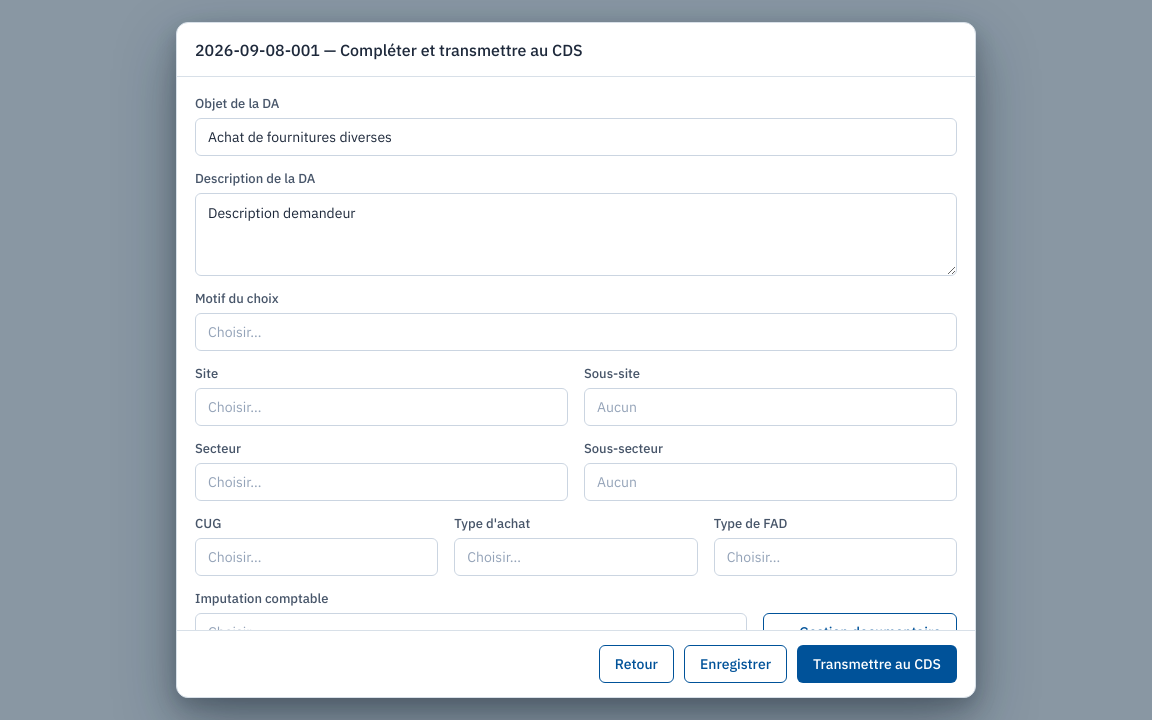
it: TraiterFadRcModal — DA_VALIDEE_RC/FAD_A_COMPLETER_CDS (complétion + transmission au CDS) › Enregistrer sauvegarde la saisie en cours via enregistrerFad, sans fermer la modale ni exiger les champs obligatoires
Click the button with aria-label "CUG".
click(317, 557)  # box x1=195 y1=538 x2=438 y2=576
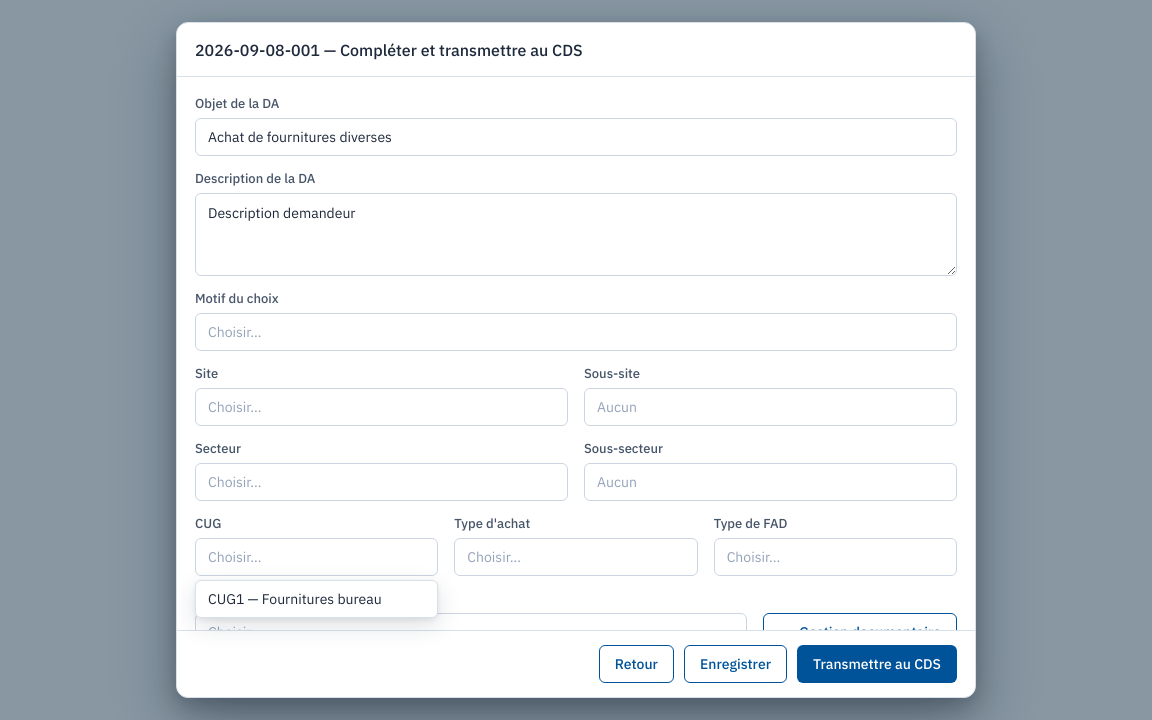
Click the text "CUG1 — Fournitures bureau".
click(295, 599)  # box x1=208 y1=590 x2=382 y2=608
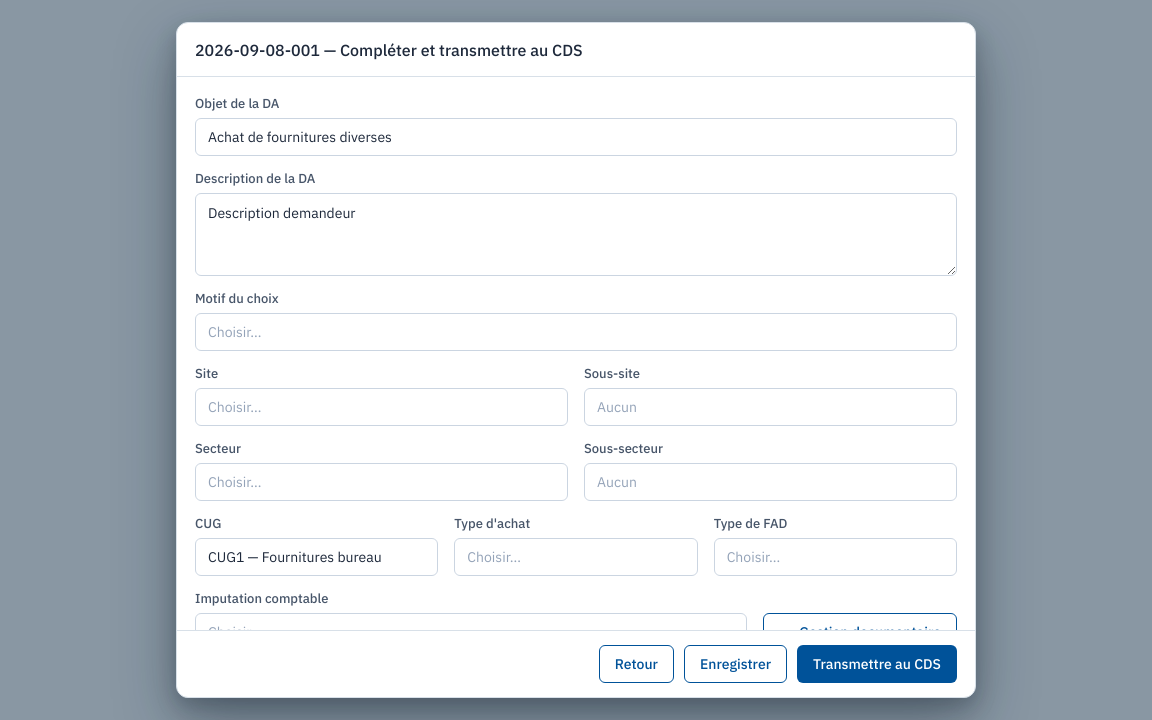
Click the button "Enregistrer".
click(736, 664)  # box x1=684 y1=645 x2=787 y2=683
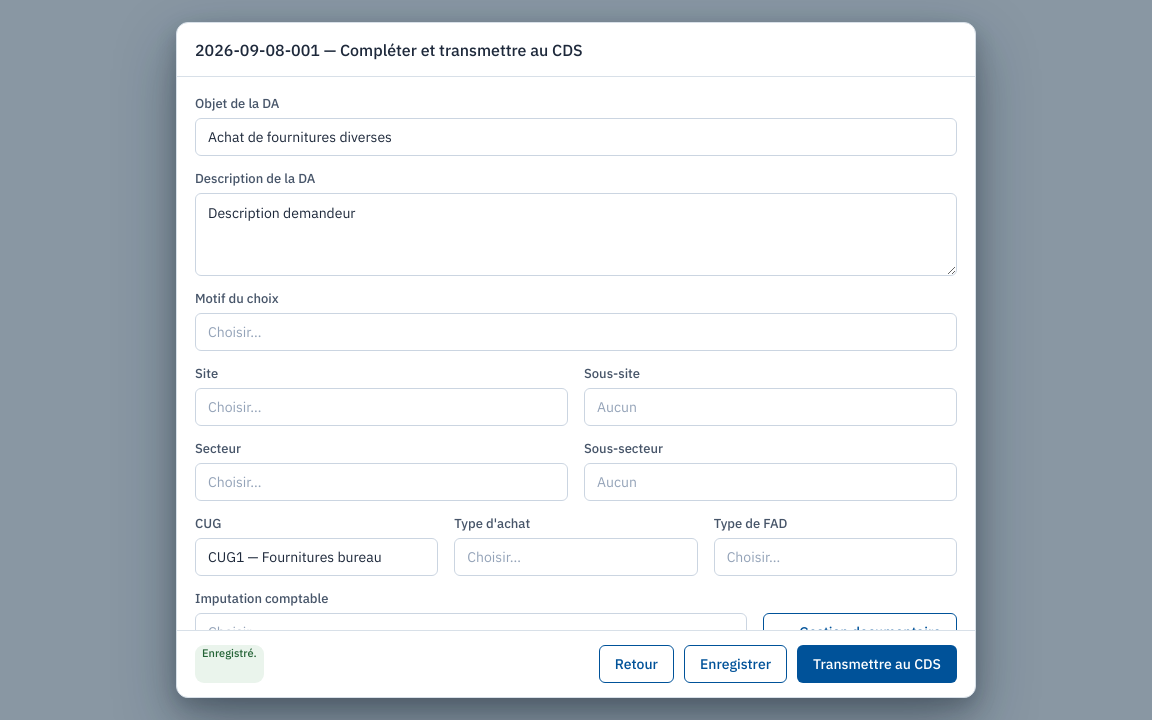
Expected: the button "Transmettre au CDS" is shown, x1=797 y1=645 x2=957 y2=683
Now the text "Enregistré." is shown, box x1=195 y1=645 x2=264 y2=683
